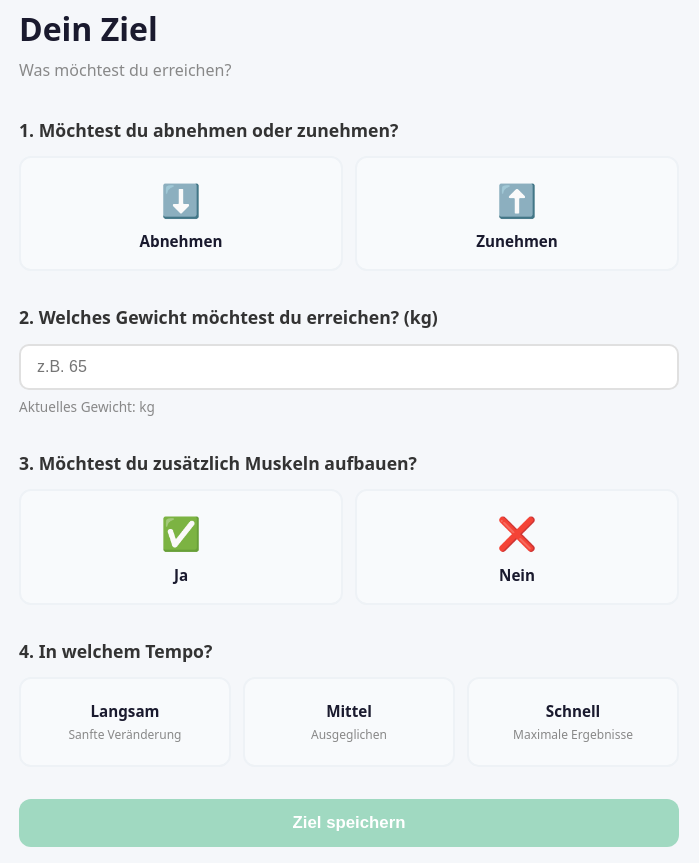
Scenario: GoalForm.vue › zeigt eine Fehlermeldung, wenn kein Profil im localStorage existiert
Click the element with class "option-card" showing "⬇️ Abnehmen". click: (181, 214)
box: [19,156,343,271]
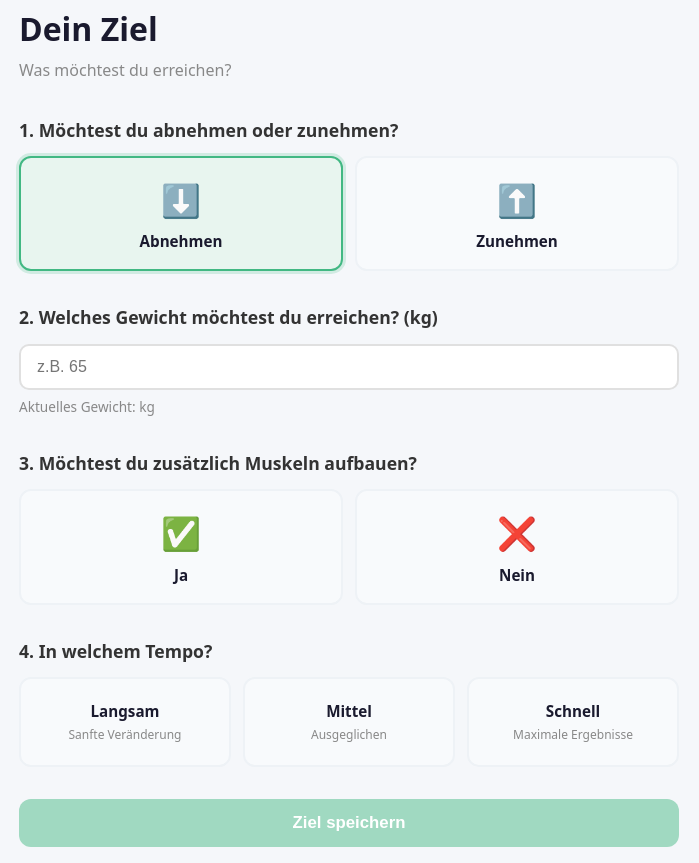
Type "65" into the number field with placeholder "z.B. 65". click: (349, 367)
box: [19,344,679,390]
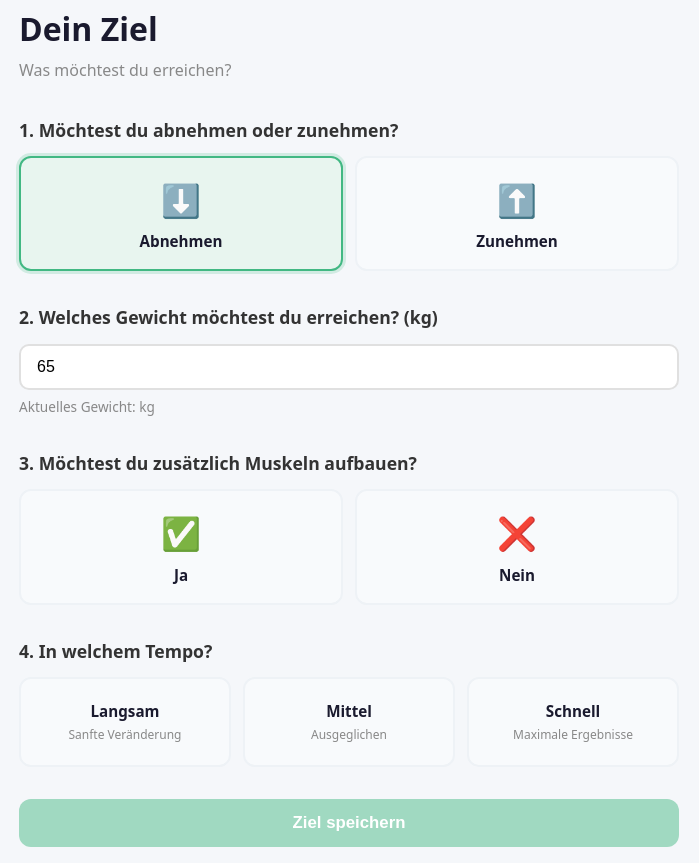
Click the element with class "option-card" showing "❌ Nein". click: (517, 547)
box: [355,490,679,605]
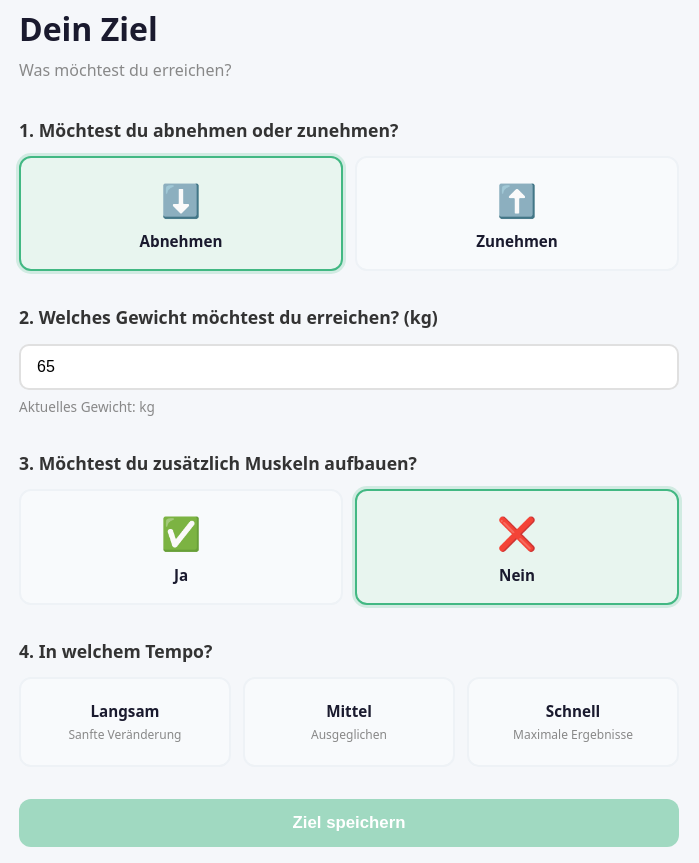
Click the element with class "tempo-card" showing "Langsam Sanfte Veränderung". click: (125, 722)
box: [19,677,231,767]
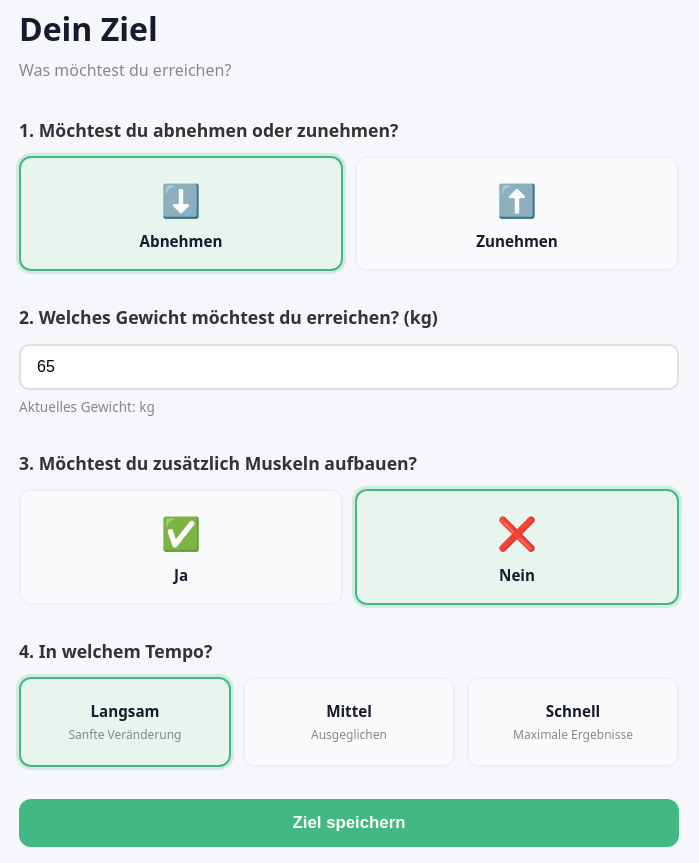
Submit the form
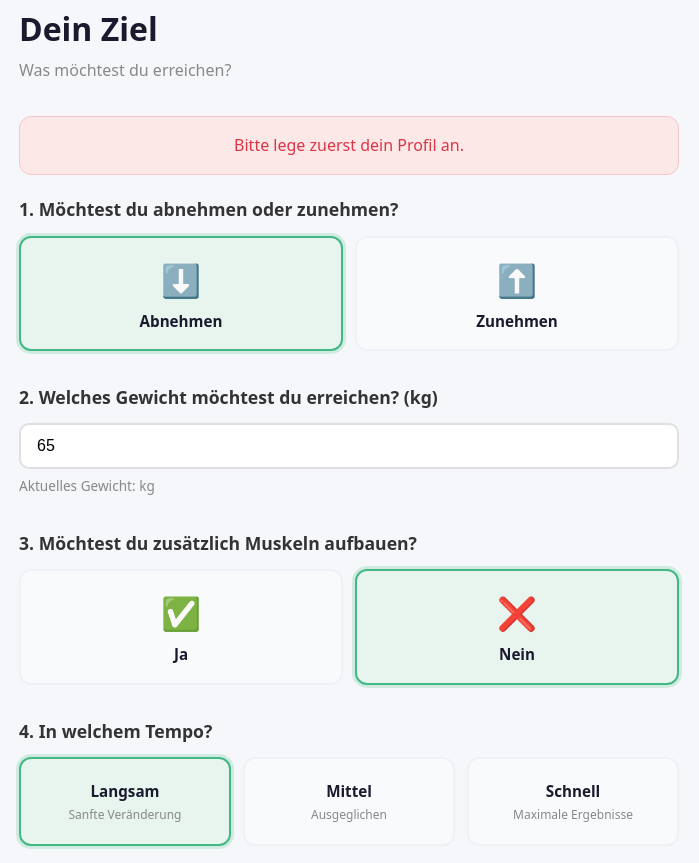
Result: the text with class "error-message" shows "Bitte lege zuerst dein Profil an" at [234,134,464,156]
